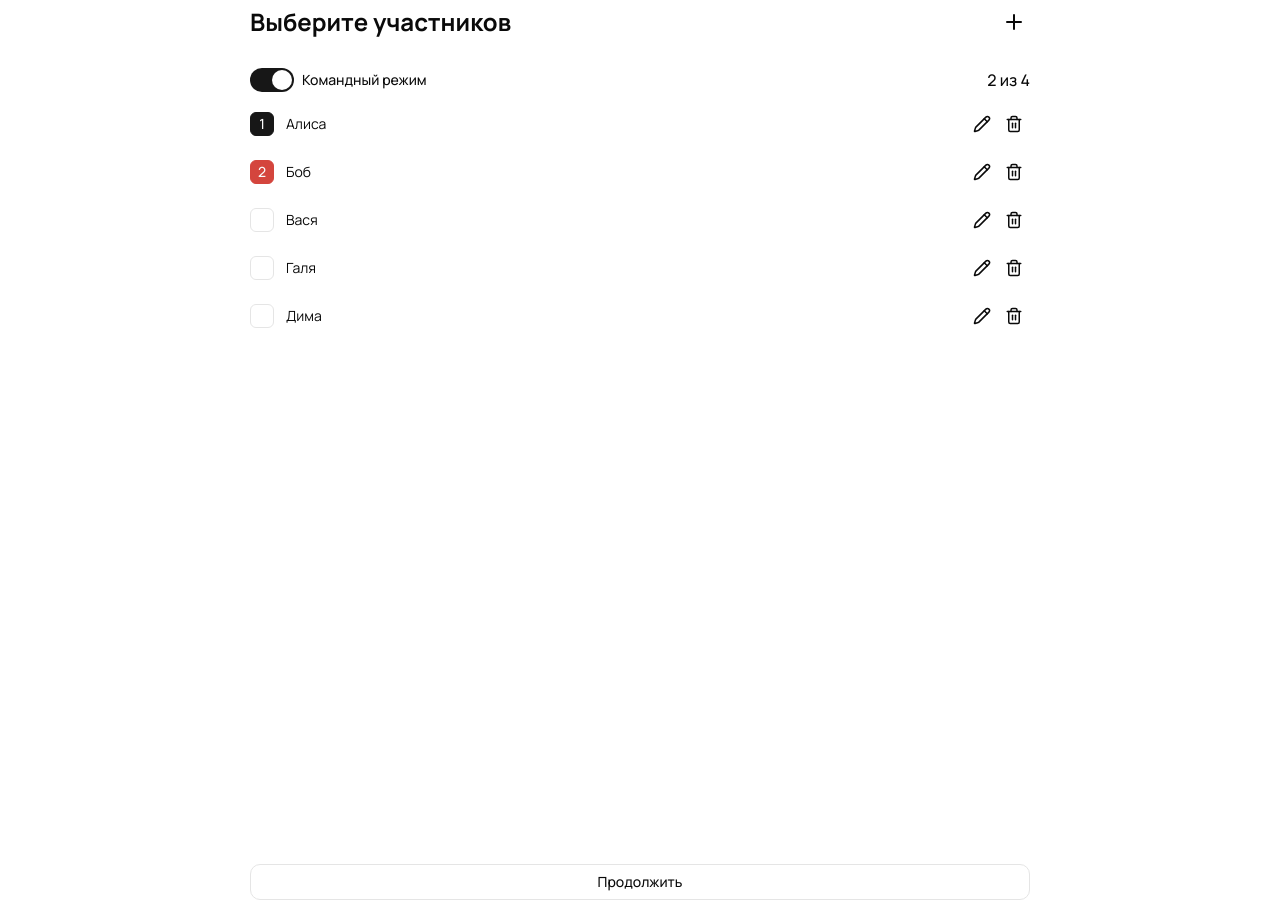
Test: Participants page › shows a toast and stays on the page when continuing in team mode without 4 players
Click the button "Продолжить" at (640, 882), box left=250, top=864, right=1030, bottom=899
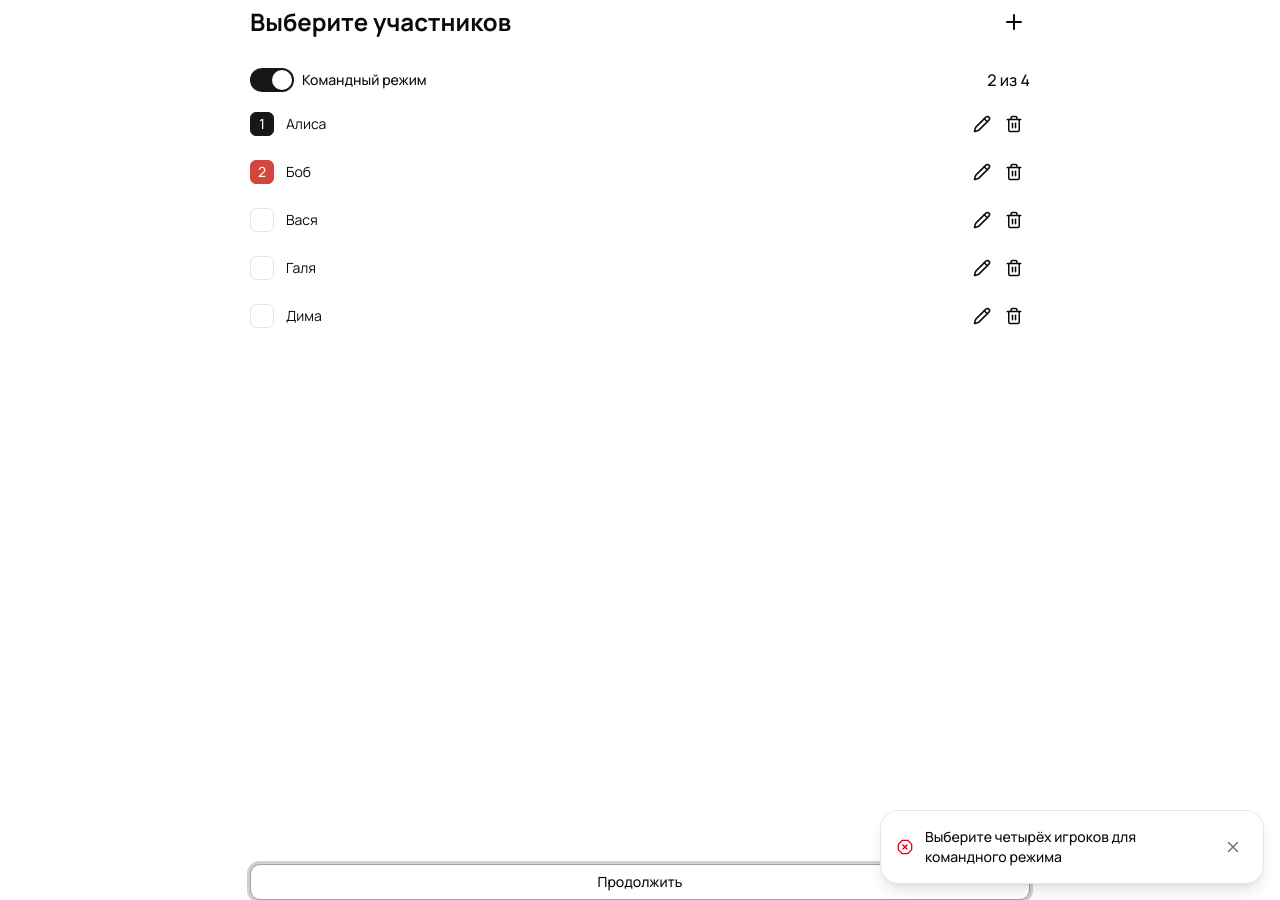
Expected: the heading "Выберите участников" is shown, left=250, top=4, right=511, bottom=40
Result: the heading "Выберите четырёх игроков для командного режима" is shown at left=925, top=827, right=1136, bottom=866
